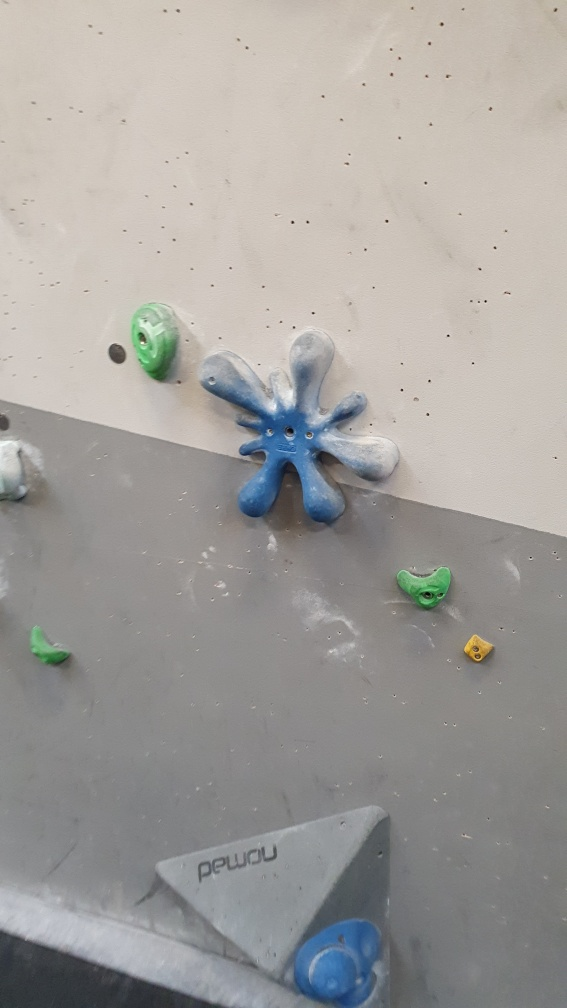Hand Start: (107, 340, 127, 365)
Jug: (127, 299, 185, 387), (390, 558, 458, 614), (25, 622, 74, 672), (1, 436, 35, 505)
Octopus Pinch: (197, 328, 405, 533)
Sloper: (297, 920, 383, 1005)
